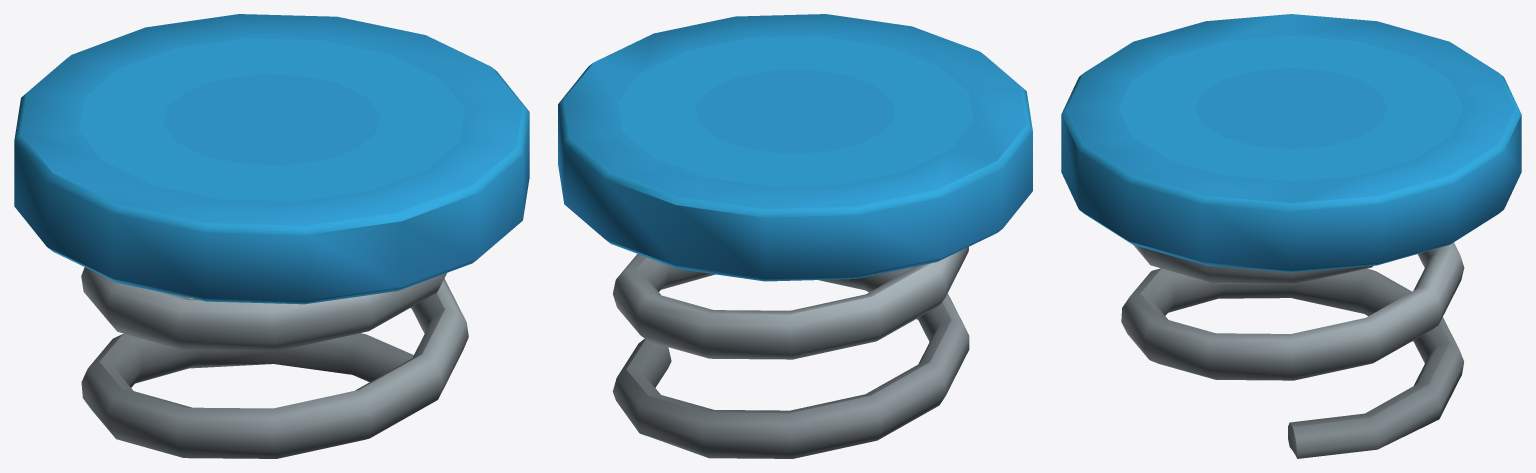
File: spring_pad_blue.glb
3 renders of one model, left to right at view 1: azimuth 30°, elevation 25°; view 2: azimuth 150°, elevation 25°; view 3: azimuth 270°, elevation 25°, orthographic. The views are drawn at different scales.
Parts seen in each view (by area): view 1: spring_pad_blue; view 2: spring_pad_blue; view 3: spring_pad_blue.
Part boxes in pixels (<box>): spring_pad_blue: <box>14,14,529,458</box>; spring_pad_blue: <box>558,14,1032,458</box>; spring_pad_blue: <box>1061,14,1521,458</box>.
Size of the model in its own units: 1.5 by 1 by 1.5.
1 material, 1 textured.
